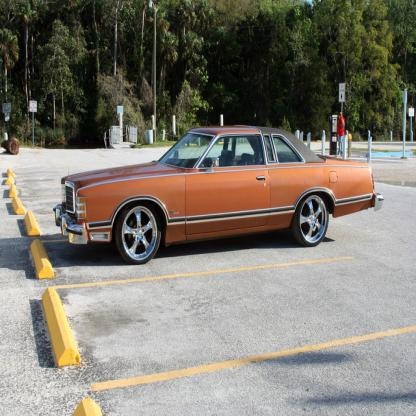Car: (50, 122, 380, 270)
